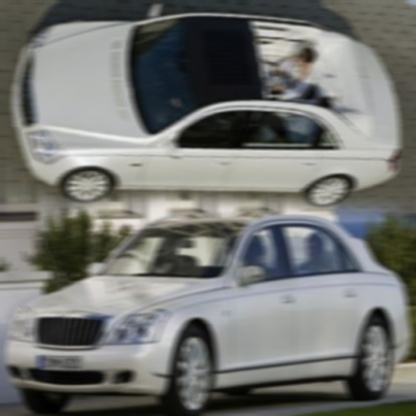Vehicle: (5, 215, 412, 413)
